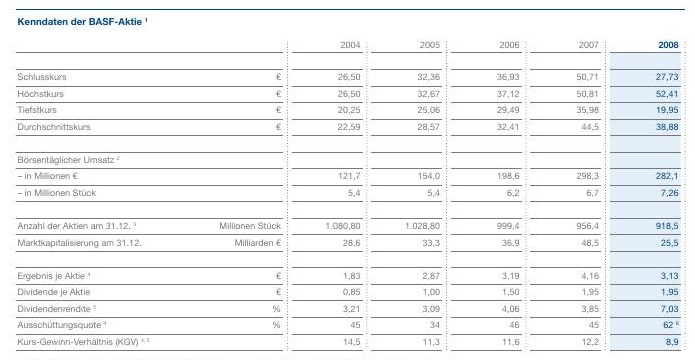table: (0, 0, 695, 360)
